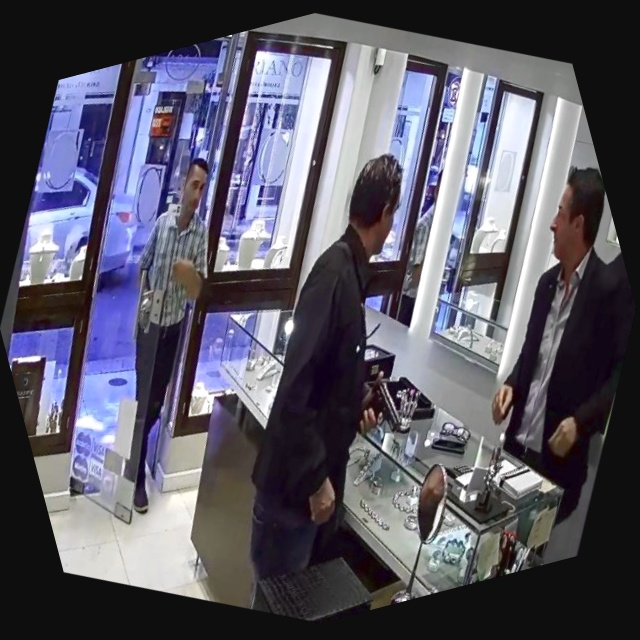gun: (325, 344, 446, 475)
